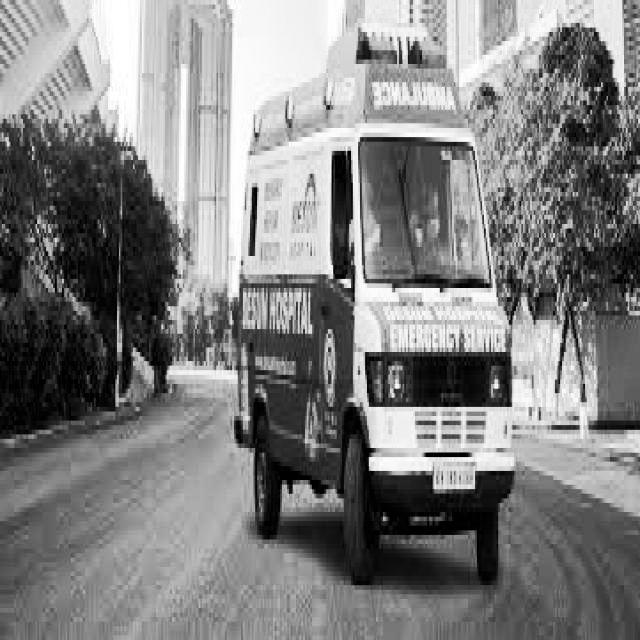LCV: (346, 20, 516, 520)
